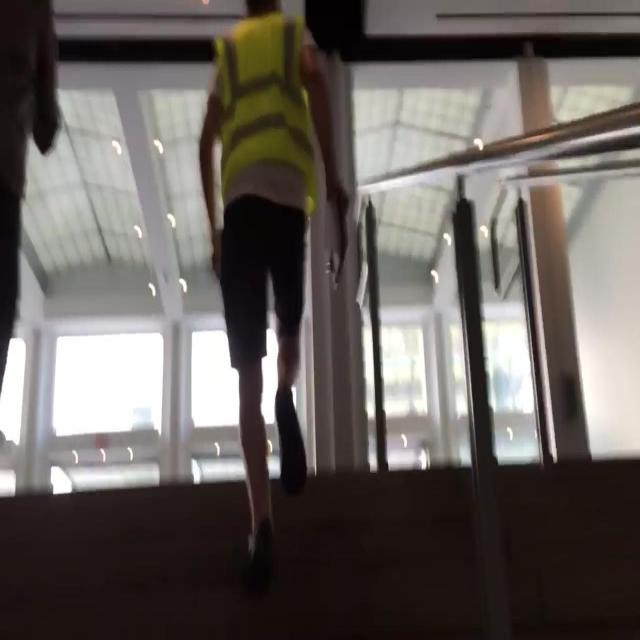Reflective-Jacket: (196, 13, 334, 230)
